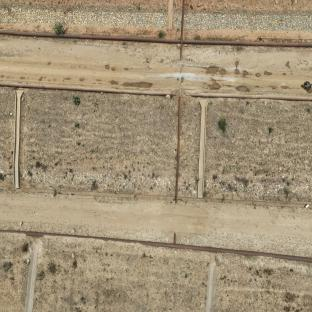rock_toe: (21, 166, 197, 197), (0, 4, 166, 27), (204, 177, 312, 203), (174, 13, 312, 33)
slope_drain: (197, 100, 208, 198), (13, 91, 23, 188), (25, 245, 39, 312), (206, 263, 216, 312), (167, 0, 173, 31)
toe_drain: (0, 186, 311, 211)
